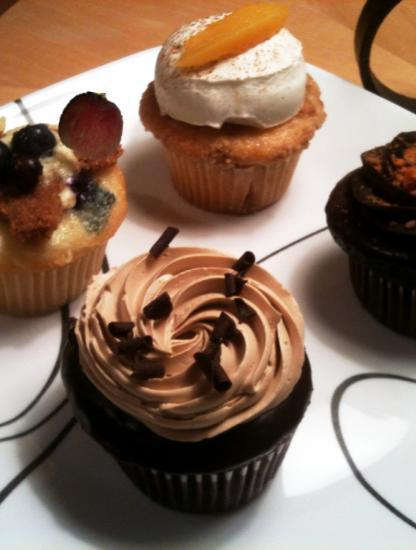Peach: (57, 92, 124, 159)
